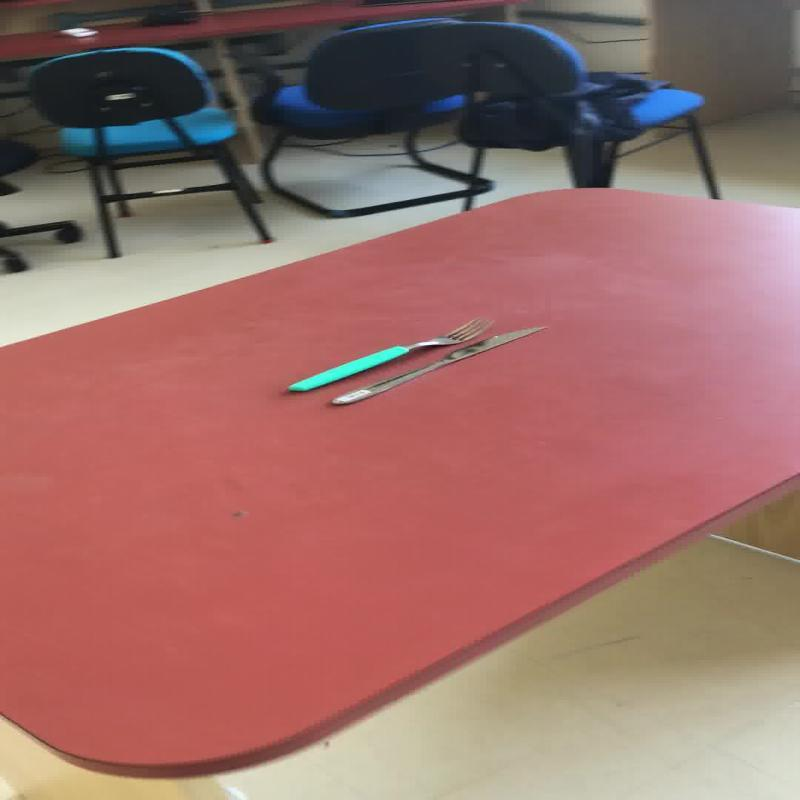fork: (284, 316, 492, 392)
knife: (328, 323, 548, 406)
